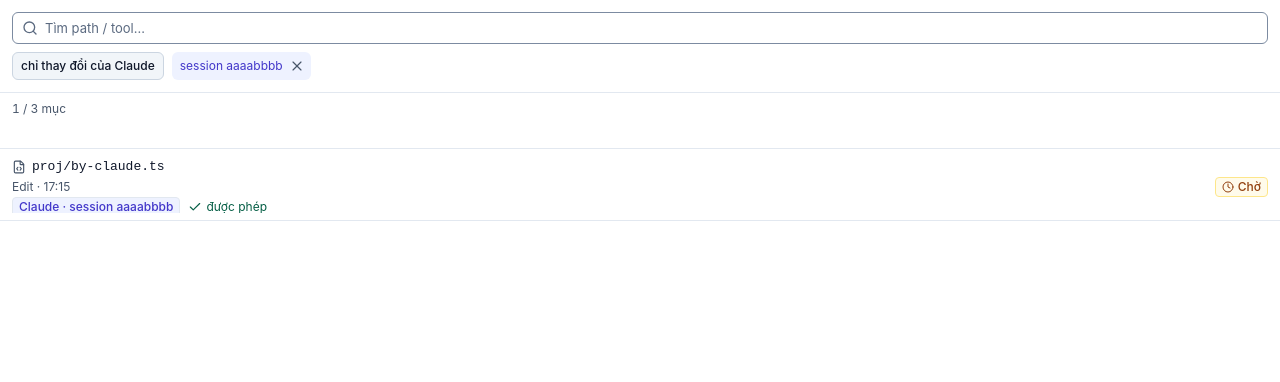
Scenario: <EditListPanel /> source labels and filters › the session filter shows one session and its chip clears it
The width and height of the screenshot is (1280, 382).
Expected: the text "proj/by-claude.ts" is shown, [32, 157, 165, 177]
Expected: the text "other-session.ts" is not shown
Step 1. Click the button named "Bỏ lọc session" → coordinates (297, 66), box [283, 52, 311, 80]
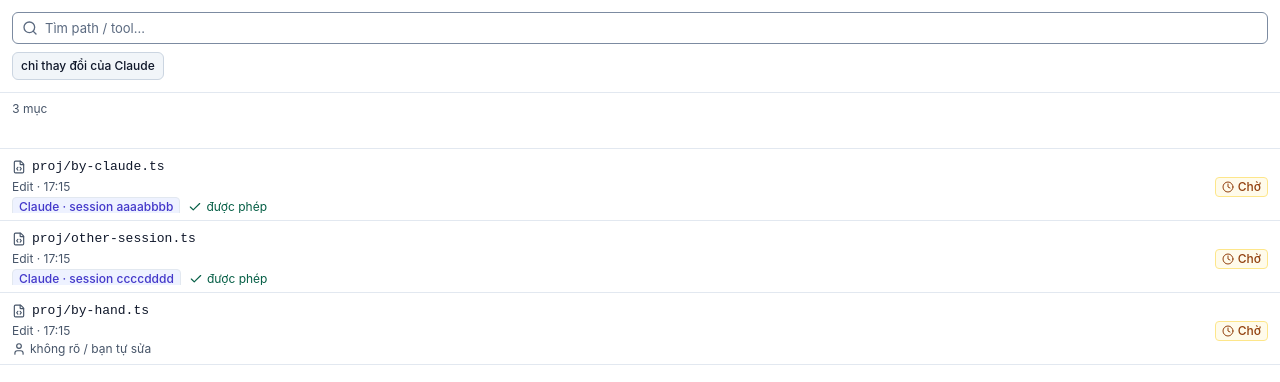
Expected: the text "proj/other-session.ts" is shown, [32, 229, 196, 249]
